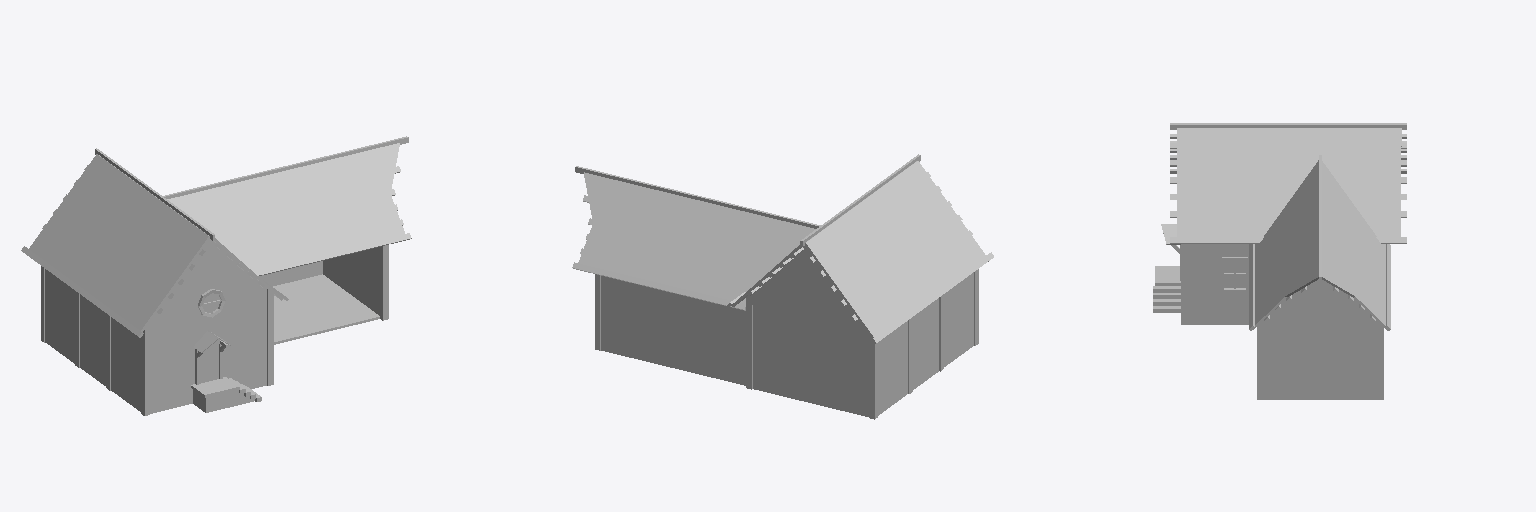
The model's file is Blacksmith.obj.
3 renders of one model, left to right at view 1: azimuth 30°, elevation 25°; view 2: azimuth 150°, elevation 25°; view 3: azimuth 270°, elevation 25°, orthographic.
Visible parts, largest first — view 1: Blacksmith_Cube.001; view 2: Blacksmith_Cube.001; view 3: Blacksmith_Cube.001.
Boxes of the visible parts, box(x1,y1,x2,y2) form: Blacksmith_Cube.001: box(21, 136, 411, 415); Blacksmith_Cube.001: box(572, 154, 993, 419); Blacksmith_Cube.001: box(1153, 123, 1406, 399).
Size of the model in its own units: 25.87 by 12.2 by 16.49.